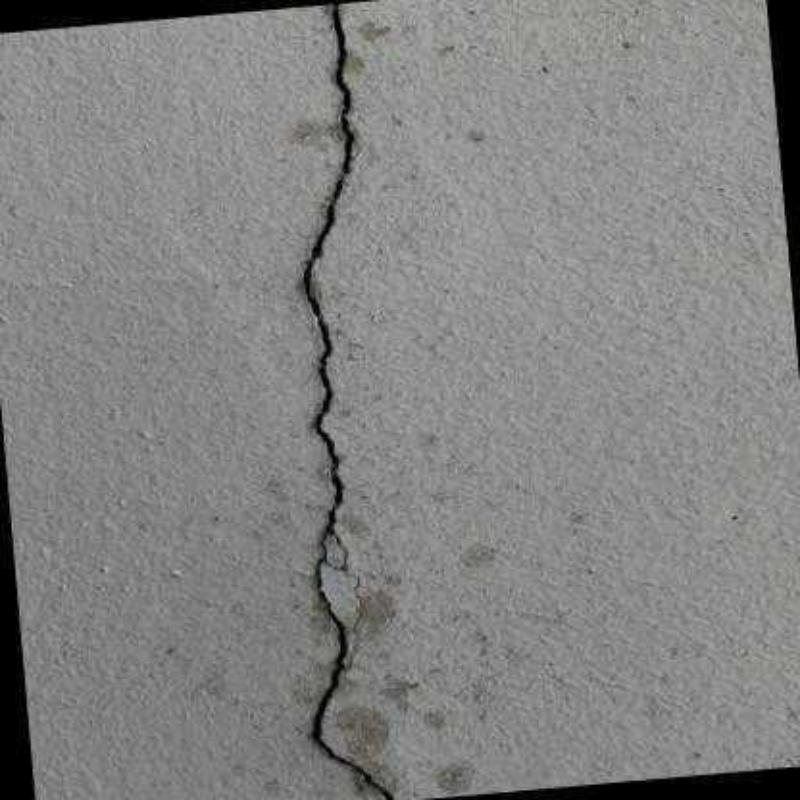pothole: (302, 4, 393, 798), (323, 527, 363, 669)
